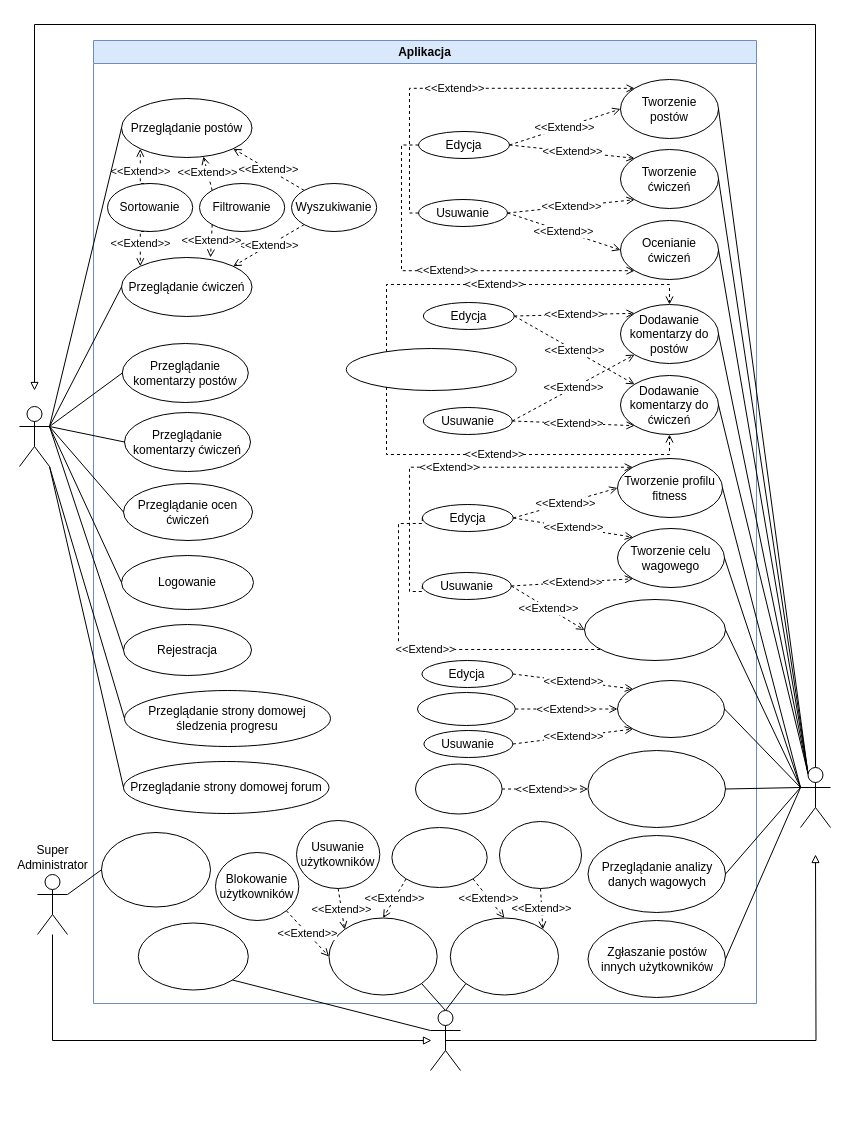
Some shapes in this 863 by 1124 pixel diagram are drawn without their labels. The shapes that lost their labels are listed below. From the top down, each one's box as (x1, y1, x2, y2) in pixels, then its label:
(345, 348, 516, 390): Odpowiadanie na komentarze
(18, 406, 50, 466): Gość
(584, 598, 726, 660): Tworzenie wpisów śledzenia progresu
(416, 692, 515, 726): Zmiana hasła
(616, 680, 724, 738): Przeglądanie własnego profilu
(414, 763, 502, 814): Zgłaszanie profili
(587, 750, 726, 828): Przeglądanie profili innych użytkowników
(800, 766, 830, 828): Użytkownik
(100, 832, 210, 907): Zarządzanie administratorami
(391, 826, 487, 888): Czyszczenie zgłoszeń
(498, 820, 582, 888): Usuwanie postów
(137, 922, 248, 990): Usuwanie komentarzy użytkowników
(328, 917, 437, 995): Przeglądanie zgłoszonych użytkowników
(449, 917, 558, 995): Przeglądanie zgłoszonych postów
(430, 1010, 460, 1070): Administrator
